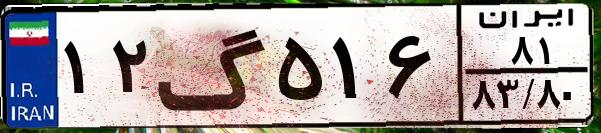0: (560, 70, 590, 125)
1: (330, 28, 385, 110), (57, 26, 110, 100), (537, 27, 568, 80)
2: (110, 28, 156, 98)
3: (495, 70, 520, 125)
5: (270, 28, 330, 110)
6: (385, 28, 445, 110)
8: (508, 27, 537, 80), (470, 70, 495, 125), (535, 70, 560, 125)
گ: (156, 12, 270, 120)
